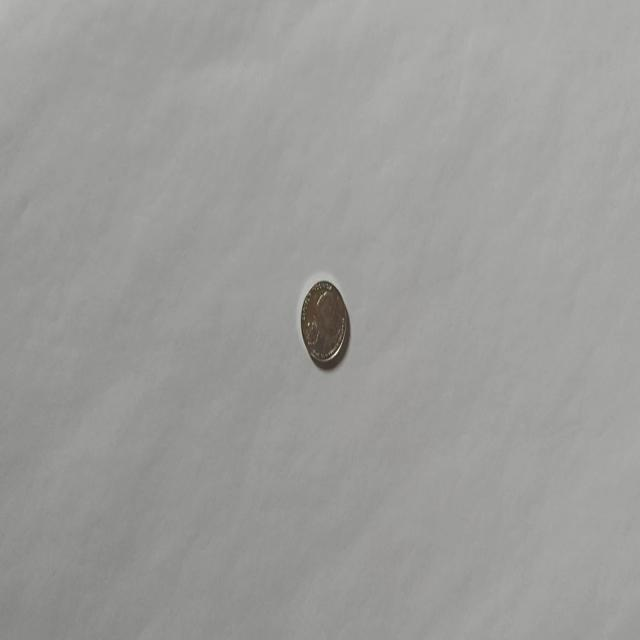seratus rupiah: (300, 278, 348, 367)
